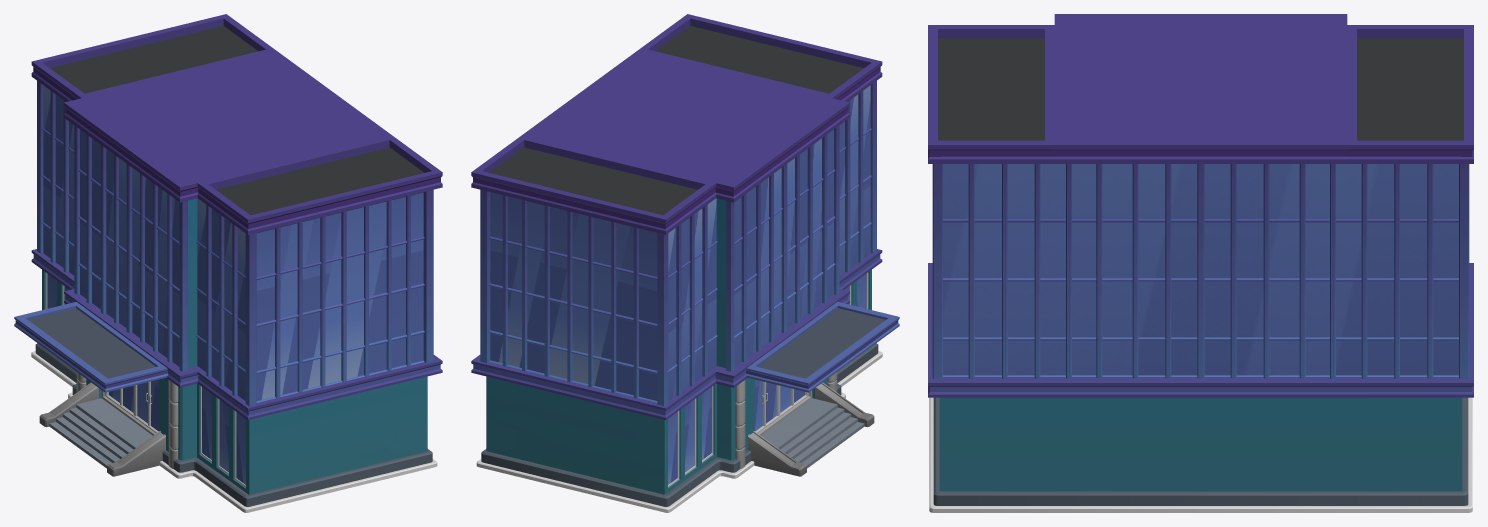
Rendered from Building_17_1_J.fbx.
3 renders of one model, left to right at view 1: azimuth 30°, elevation 25°; view 2: azimuth 150°, elevation 25°; view 3: azimuth 270°, elevation 25°, orthographic. The views are drawn at different scales.
Visible parts, largest first — view 1: Building_17_1_J; view 2: Building_17_1_J; view 3: Building_17_1_J.
Boxes of the visible parts, x1,y1,x2,y2 form: Building_17_1_J: (14,14,442,512); Building_17_1_J: (471,14,899,512); Building_17_1_J: (928,14,1473,512).
Bounding box in the file's own units: 857 × 875 × 1168.
